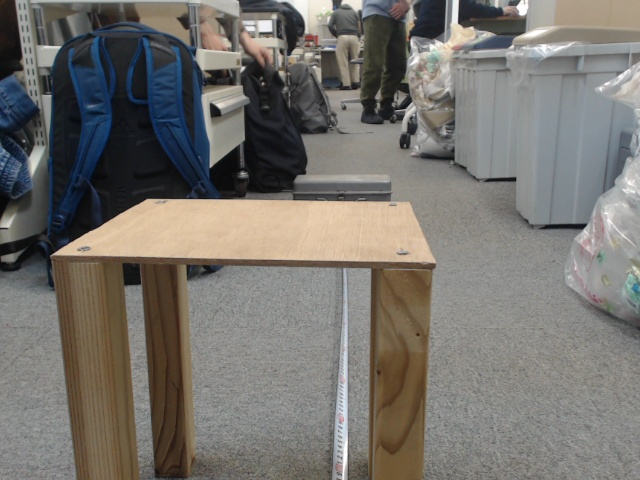desk: (231, 152, 454, 399)
